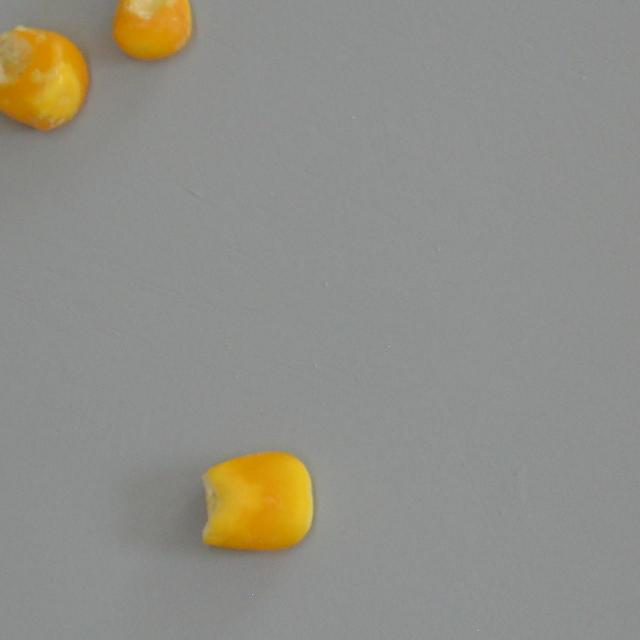no_canjicado: (190, 447, 317, 556)
no_desgerminado: (0, 20, 94, 136), (108, 0, 202, 66)
